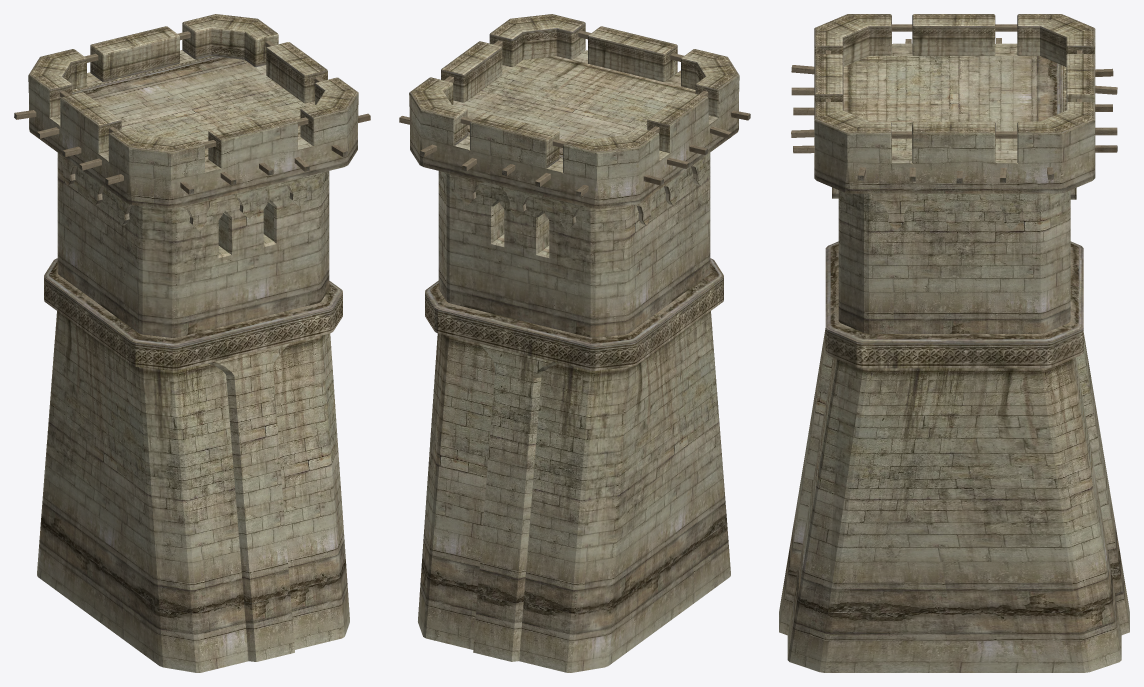
The model's file is TW2_5_TOWNWALL_01_05-transformed.glb.
The picture shows the model from 3 angles, left to right: view 1: azimuth 30°, elevation 25°; view 2: azimuth 150°, elevation 25°; view 3: azimuth 270°, elevation 25°; orthographic projection. The views are drawn at different scales.
Parts seen in each view (by area): view 1: default; view 2: default; view 3: default.
Boxes of the visible parts, x1,y1,x2,y2 form: default: (14,14,370,672); default: (399,14,750,672); default: (779,14,1129,672).
Bounding box in the file's own units: 16.28 × 30.04 × 17.36.
Materials: 2 (2 with a texture image).
